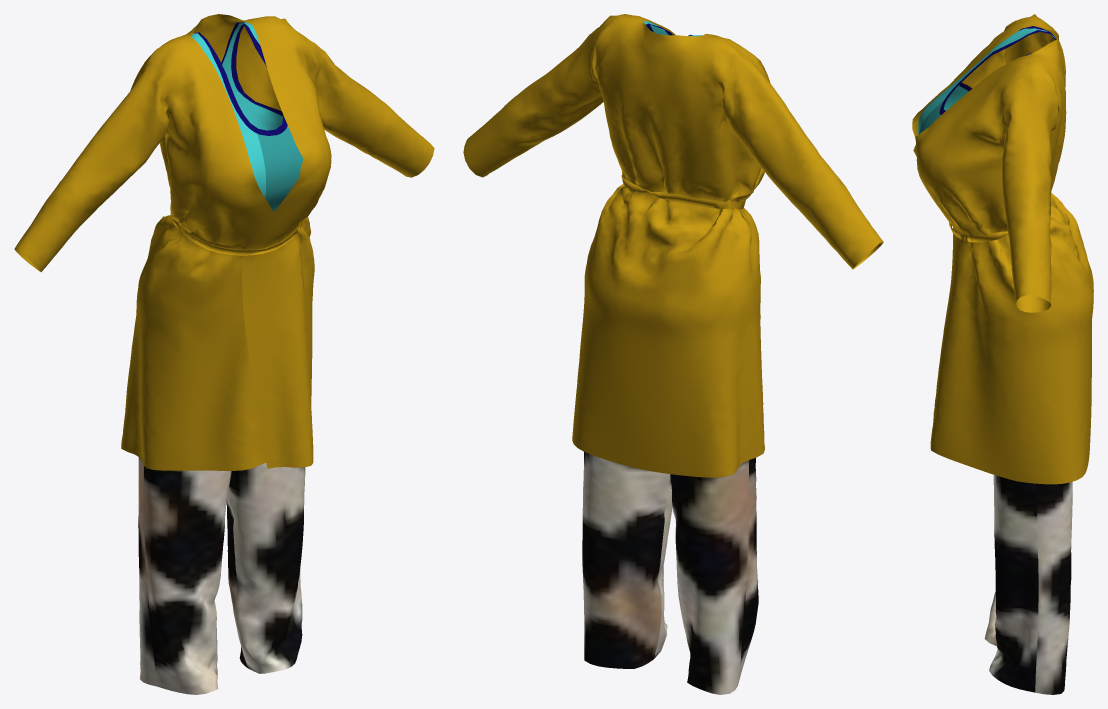
File: pijama-exterior.obj
The picture shows the model from 3 angles, left to right: view 1: azimuth 30°, elevation 25°; view 2: azimuth 150°, elevation 25°; view 3: azimuth 270°, elevation 25°; orthographic projection. The views are drawn at different scales.
Parts seen in each view (by area): view 1: Pattern2D_606978, Pattern2D_230539, Pattern2D_11081, Pattern2D_11080, Pattern2D_606979, Pattern2D_606982, Pattern2D_606977, Pattern2D_556679, Pattern2D_11079, Pattern2D_606387, Pattern2D_555855, Pattern2D_11082 (+2 smaller); view 2: Pattern2D_606977, Pattern2D_11082, Pattern2D_11079, Pattern2D_606981, Pattern2D_606983, Pattern2D_606978, Pattern2D_606979, Pattern2D_11081, Pattern2D_11080, Pattern2D_353404; view 3: Pattern2D_230539, Pattern2D_606977, Pattern2D_11080, Pattern2D_11082, Pattern2D_606982, Pattern2D_606983, Pattern2D_606978, Pattern2D_555855, Pattern2D_606979, Pattern2D_353404, Pattern2D_11081, Pattern2D_547517 (+1 smaller).
Part boxes in pixels (bbox=[...]): Pattern2D_606978: bbox=[142, 37, 273, 470]; Pattern2D_230539: bbox=[242, 18, 331, 468]; Pattern2D_11081: bbox=[144, 466, 231, 694]; Pattern2D_11080: bbox=[229, 463, 305, 673]; Pattern2D_606979: bbox=[17, 49, 168, 272]; Pattern2D_606982: bbox=[286, 20, 434, 177]; Pattern2D_606977: bbox=[121, 14, 281, 464]; Pattern2D_556679: bbox=[257, 126, 303, 211]; Pattern2D_11079: bbox=[138, 457, 156, 686]; Pattern2D_606387: bbox=[191, 22, 283, 130]; Pattern2D_555855: bbox=[203, 48, 265, 197]; Pattern2D_11082: bbox=[226, 488, 247, 667]; Pattern2D_606977: bbox=[572, 15, 757, 477]; Pattern2D_11082: bbox=[582, 452, 670, 668]; Pattern2D_11079: bbox=[670, 460, 749, 694]; Pattern2D_606981: bbox=[721, 49, 878, 269]; Pattern2D_606983: bbox=[463, 16, 609, 177]; Pattern2D_606978: bbox=[701, 33, 764, 456]; Pattern2D_606979: bbox=[734, 49, 883, 267]; Pattern2D_11081: bbox=[739, 457, 758, 679]; Pattern2D_11080: bbox=[654, 479, 672, 658]; Pattern2D_353404: bbox=[621, 175, 745, 210]; Pattern2D_230539: bbox=[913, 55, 1030, 481]; Pattern2D_606977: bbox=[997, 14, 1093, 484]; Pattern2D_11080: bbox=[989, 475, 1038, 692]; Pattern2D_11082: bbox=[1035, 482, 1072, 694]; Pattern2D_606982: bbox=[997, 73, 1041, 312]; Pattern2D_606983: bbox=[1028, 73, 1059, 311]; Pattern2D_606978: bbox=[912, 14, 1034, 138]; Pattern2D_555855: bbox=[918, 33, 1018, 134]; Pattern2D_606979: bbox=[1004, 29, 1033, 63]; Pattern2D_353404: bbox=[949, 222, 1008, 242]; Pattern2D_11081: bbox=[984, 592, 996, 645]; Pattern2D_547517: bbox=[939, 39, 1019, 114].
Bounding box in the file's own units: 1 × 1.5 × 0.3942.
